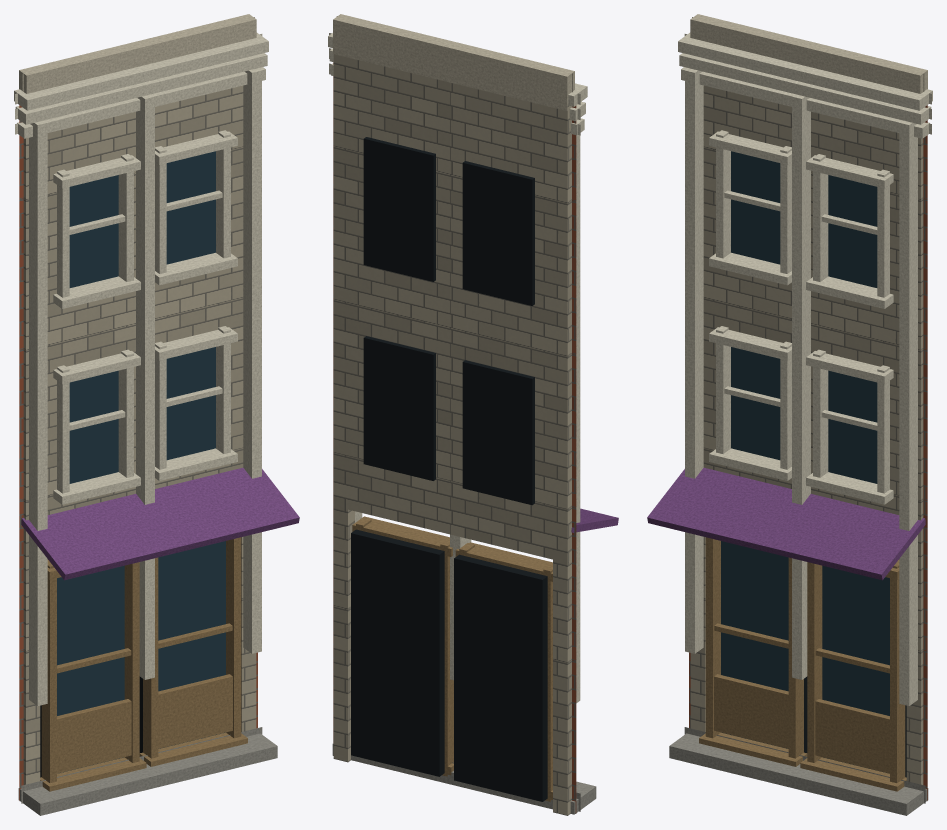
Rendered from BUSS9_lod2.glb.
3 renders of one model, left to right at view 1: azimuth 30°, elevation 25°; view 2: azimuth 150°, elevation 25°; view 3: azimuth 330°, elevation 25°, orthographic.
Parts seen in each view (by area): view 1: BUSS9_FRONT_LOD2; view 2: BUSS9_FRONT_LOD2; view 3: BUSS9_FRONT_LOD2.
Boxes of the visible parts, x1,y1,x2,y2 form: BUSS9_FRONT_LOD2: (14,14,299,815); BUSS9_FRONT_LOD2: (328,14,618,815); BUSS9_FRONT_LOD2: (647,14,932,815).
Size of the model in its own units: 3.44 by 9.66 by 1.25.
10 materials, 8 textured.
